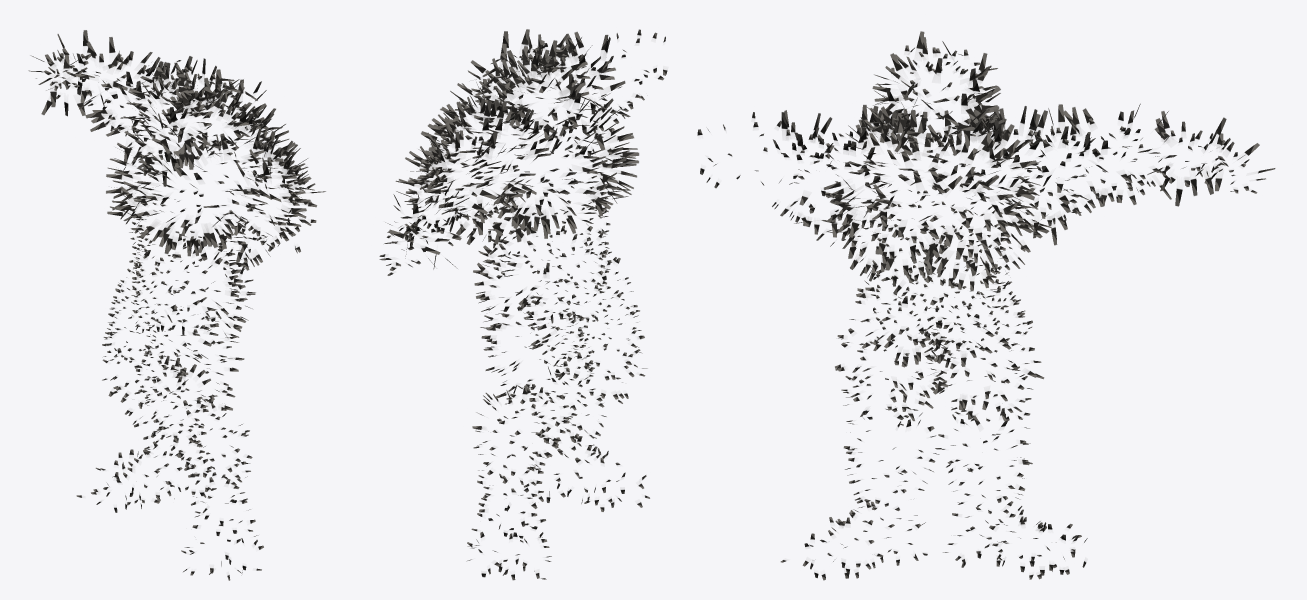
Rendered from fur_cards_lod0.glb.
3 renders of one model, left to right at view 1: azimuth 30°, elevation 25°; view 2: azimuth 150°, elevation 25°; view 3: azimuth 270°, elevation 25°, orthographic. The views are drawn at different scales.
Parts seen in each view (by area): view 1: FurCards_LOD0; view 2: FurCards_LOD0; view 3: FurCards_LOD0.
Boxes of the visible parts, x1=… form: FurCards_LOD0: x1=28, y1=30, x2=325, y2=580; FurCards_LOD0: x1=379, y1=29, x2=667, y2=580; FurCards_LOD0: x1=697, y1=31, x2=1275, y2=580.
Size of the model in its own units: 0.8658 by 2.13 by 2.08.
Materials: 2 (2 with a texture image).
